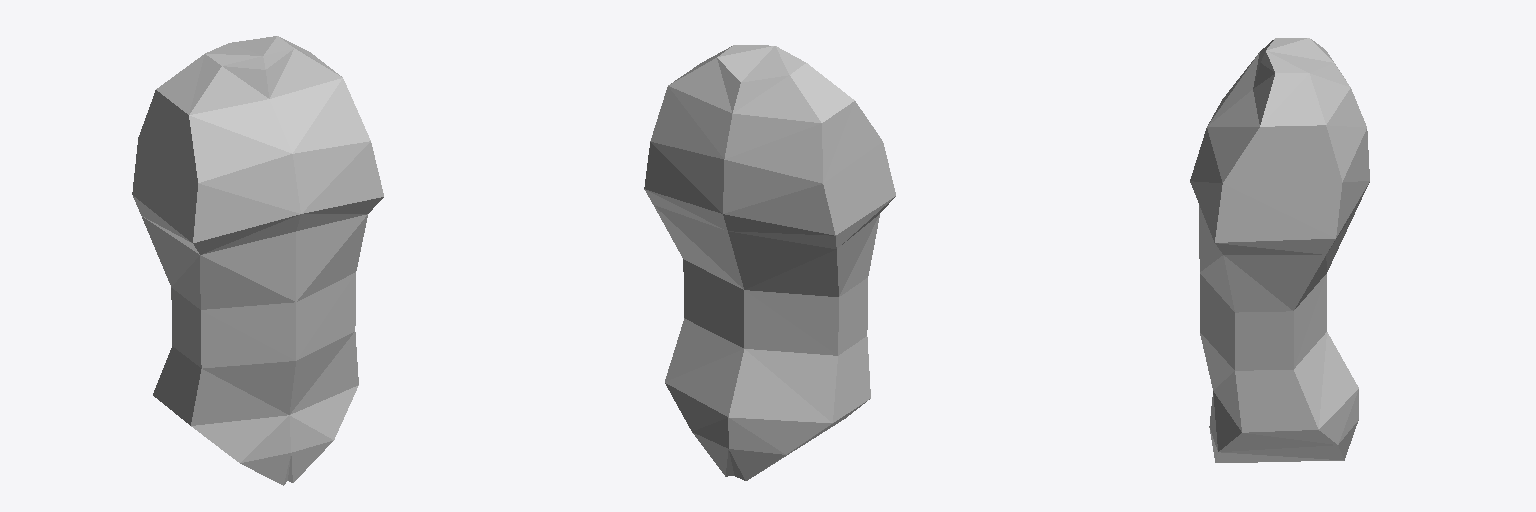
The model's file is enemy2Body.obj.
3 renders of one model, left to right at view 1: azimuth 30°, elevation 25°; view 2: azimuth 150°, elevation 25°; view 3: azimuth 270°, elevation 25°, orthographic.
Visible parts, largest first — view 1: Cube.004; view 2: Cube.004; view 3: Cube.004.
Boxes of the visible parts, x1,y1,x2,y2 form: Cube.004: [132, 36, 383, 485]; Cube.004: [644, 45, 895, 480]; Cube.004: [1190, 38, 1369, 462].
Size of the model in its own units: 0.3933 by 0.8054 by 0.3206.